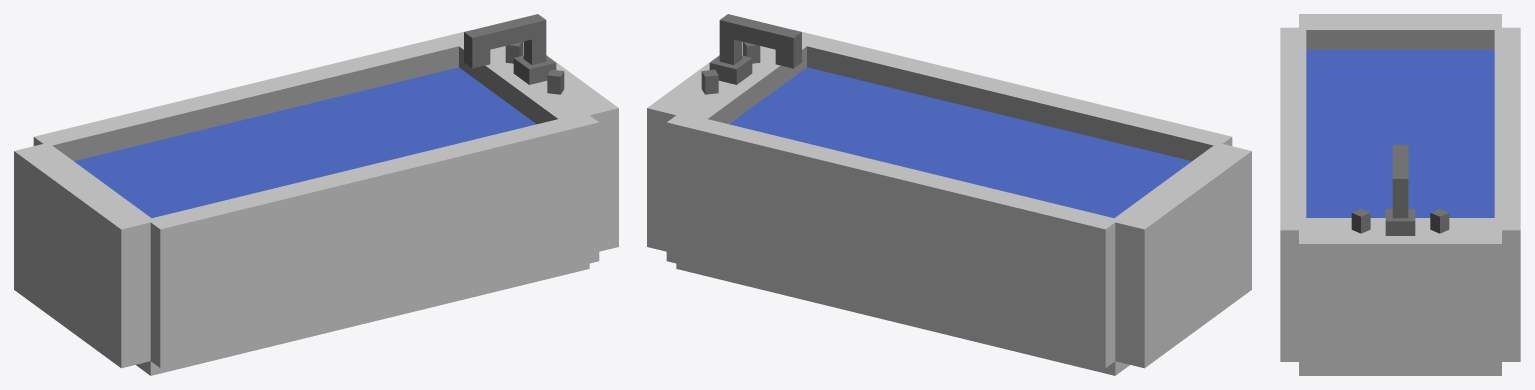
Rendered from bathtubFilled.fbx.
3 renders of one model, left to right at view 1: azimuth 30°, elevation 25°; view 2: azimuth 150°, elevation 25°; view 3: azimuth 270°, elevation 25°, orthographic. The views are drawn at different scales.
Parts seen in each view (by area): view 1: bathtubFilled; view 2: bathtubFilled; view 3: bathtubFilled.
Boxes of the visible parts, x1,y1,x2,y2 form: bathtubFilled: [14, 14, 618, 375]; bathtubFilled: [647, 14, 1251, 375]; bathtubFilled: [1280, 14, 1520, 375].
Bounding box in the file's own units: 544 × 221 × 240.
